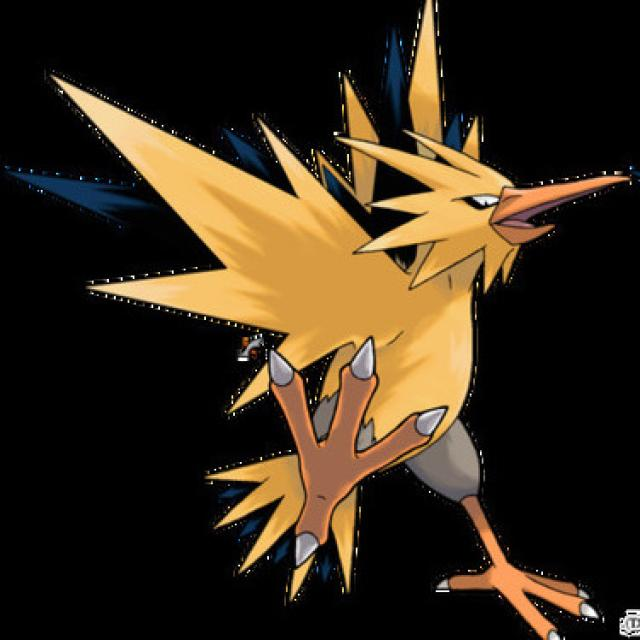Zapdos: (213, 109, 562, 575)
